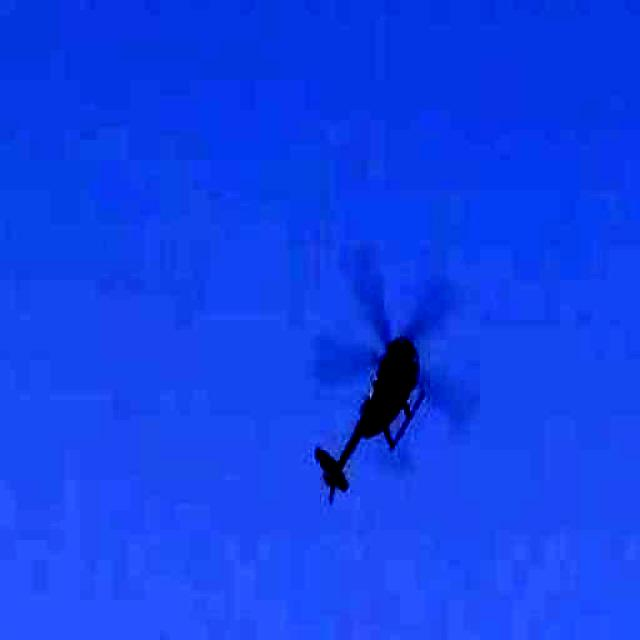drone: (289, 210, 489, 520)
